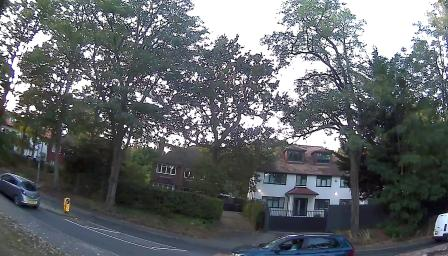Cars: (233, 230, 356, 256), (3, 168, 41, 218), (425, 202, 425, 202)
